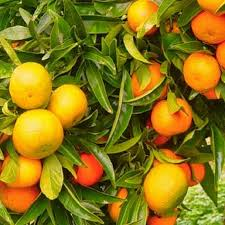orange: (144, 161, 190, 219), (15, 110, 61, 158), (152, 96, 197, 142), (181, 50, 223, 99), (10, 61, 50, 109), (50, 86, 91, 126), (135, 59, 170, 101), (190, 10, 225, 50), (125, 1, 164, 36), (75, 152, 106, 188)
